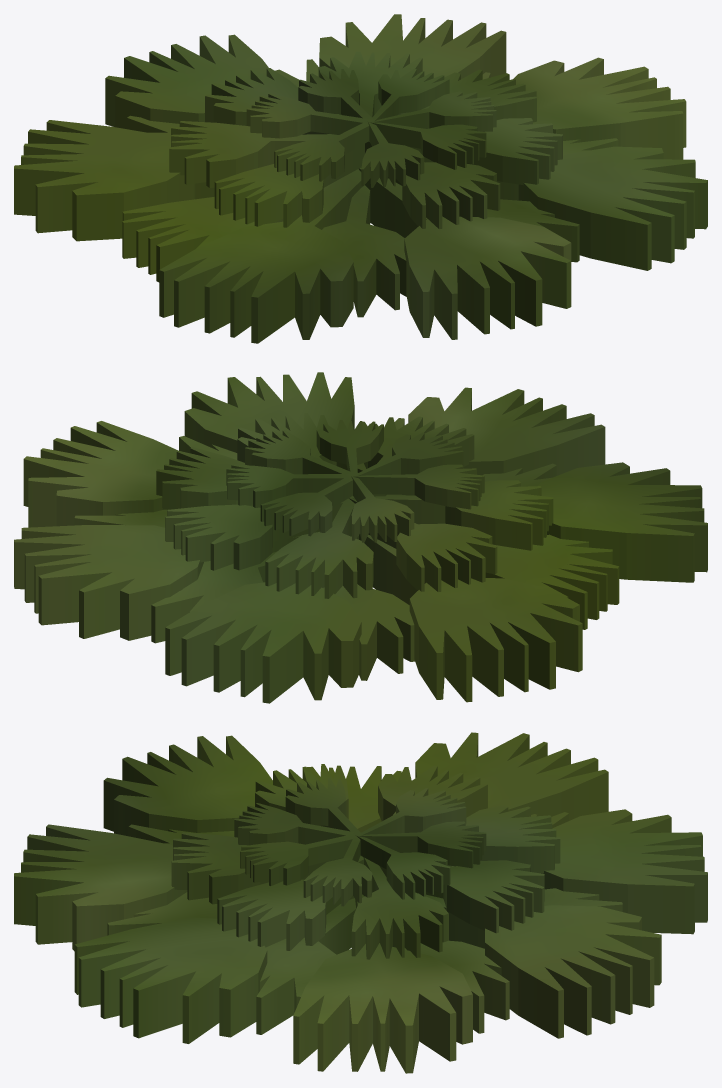
Rendered from Drvo 2 kao ruke  ponovo.fbx.
3 views of the same model, one above another, from view 1: azimuth 30°, elevation 25°; view 2: azimuth 150°, elevation 25°; view 3: azimuth 270°, elevation 25° (orthographic). The views are drawn at different scales.
Parts seen in each view (by area): view 1: Drvo 2; view 2: Drvo 2; view 3: Drvo 2.
Boxes of the visible parts, x1,y1,x2,y2 form: Drvo 2: (14, 14, 707, 343); Drvo 2: (14, 372, 707, 703); Drvo 2: (14, 732, 707, 1073).
Bounding box in the file's own units: 100 × 15.25 × 100.
1 material, 1 textured.
